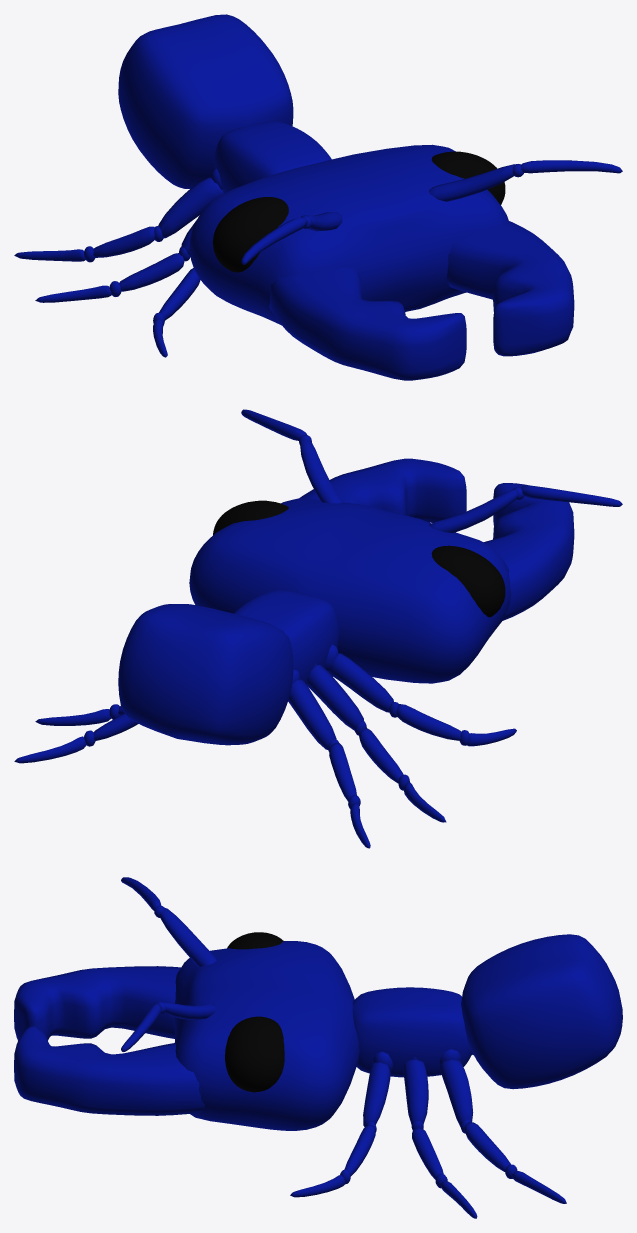
Rendered from Player bleu.fbx.
The picture shows the model from 3 angles, top to bottom: view 1: azimuth 30°, elevation 25°; view 2: azimuth 150°, elevation 25°; view 3: azimuth 270°, elevation 25°; orthographic projection. The views are drawn at different scales.
Visible parts, largest first — view 1: Major bleu; view 2: Major bleu; view 3: Major bleu.
Part boxes in pixels (x1,y1,x2,y2): Major bleu: (14,14,622,380); Major bleu: (14,409,622,848); Major bleu: (14,877,622,1218).
Size of the model in its own units: 2.66 by 1.18 by 3.68.
